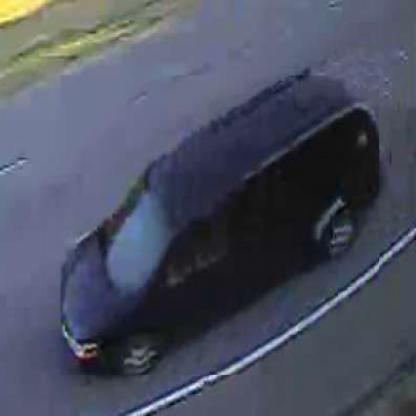car: (61, 77, 380, 377)
